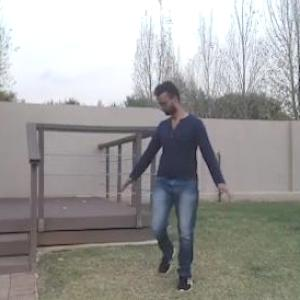land: (121, 78, 226, 299)
